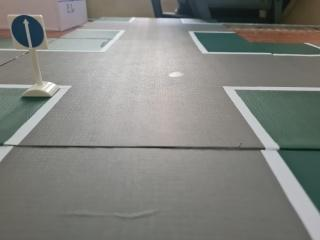straight: (7, 13, 48, 51)
